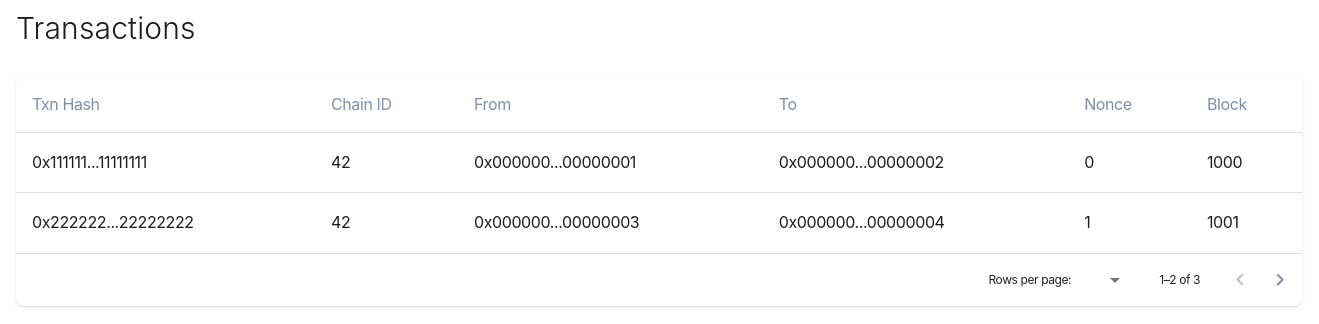
Test: TransactionsScreen › can page through the list of transactions
The image size is (1319, 324).
Expected: the text "0x111111...11111111" is shown, [32,151,147,174]
Expected: the text "0x222222...22222222" is shown, [32,211,194,235]
Click the button named "next-page" at (1280, 280), box [1260,260,1300,300]
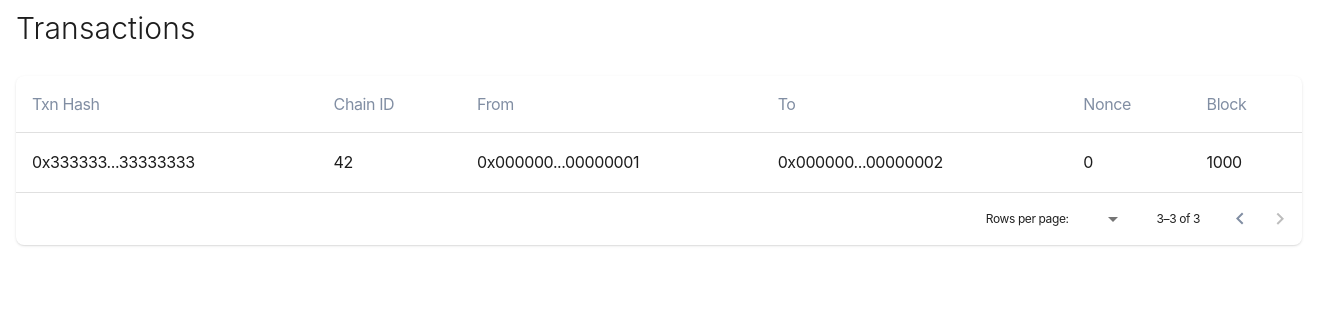
Now the text "0x333333...33333333" is shown, box [32,151,195,174]
Now the text "3–3 of 3" is shown, box [1157,209,1200,230]
Now the button named "next-page" is disabled, box [1260,199,1300,239]
Click the button named "prev-page" at (1240, 219), box [1220,199,1260,239]
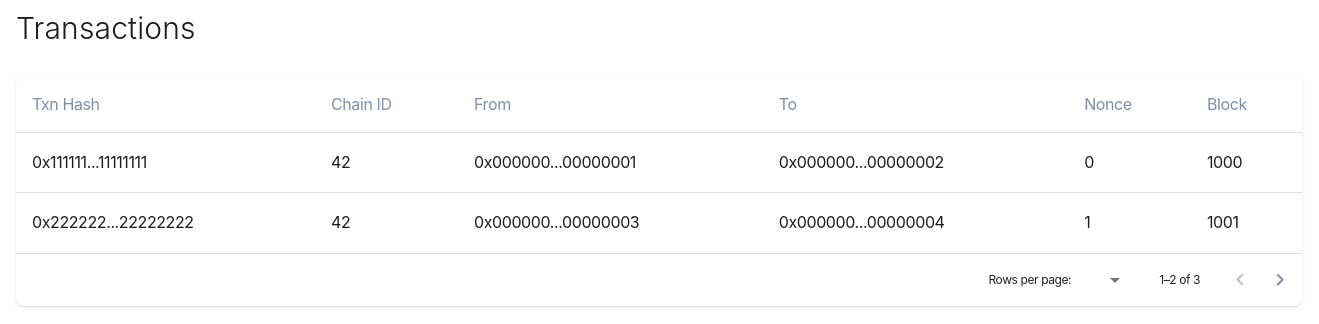
Now the text "0x111111...11111111" is shown, box [32,151,147,174]
Now the text "0x222222...22222222" is shown, box [32,211,194,235]
Now the text "1–2 of 3" is shown, box [1159,270,1200,290]
